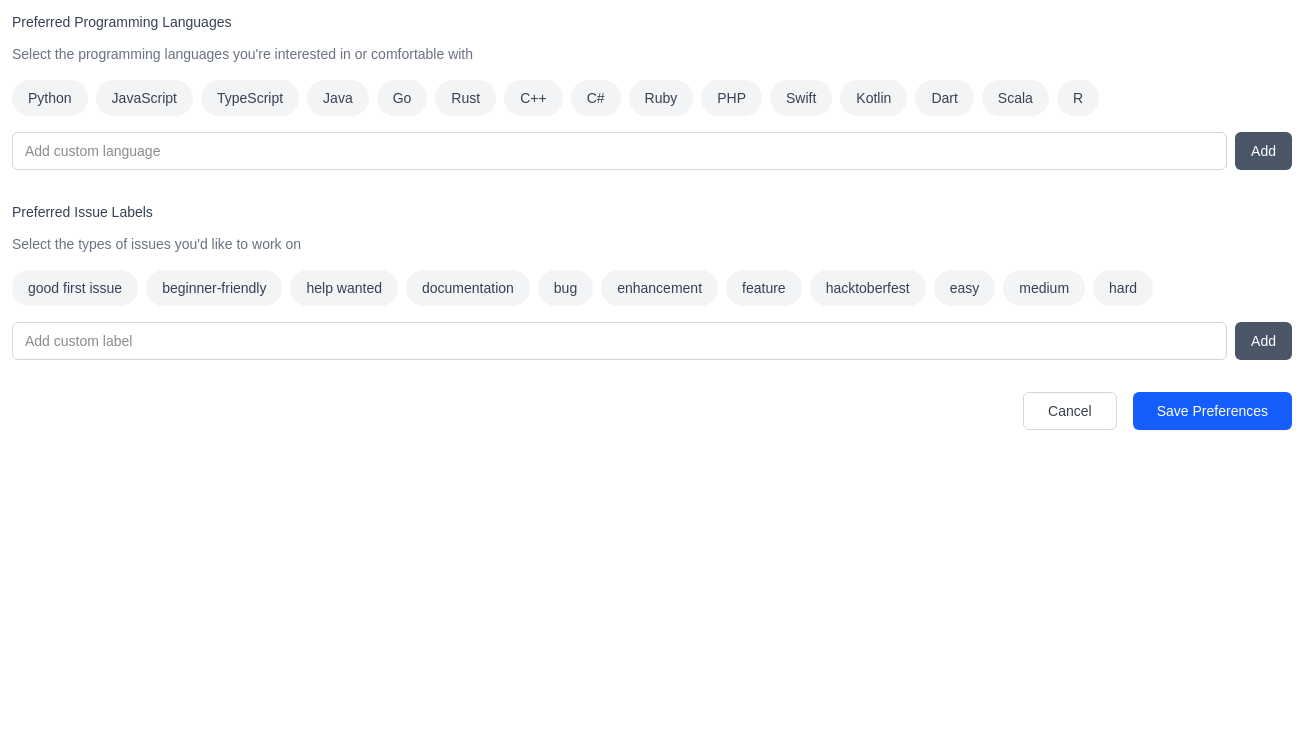
Scenario: PreferencesForm › toggles label selection
The width and height of the screenshot is (1304, 732).
Step 1. Click the button "bug" → click(566, 288), box x1=538 y1=270 x2=593 y2=306
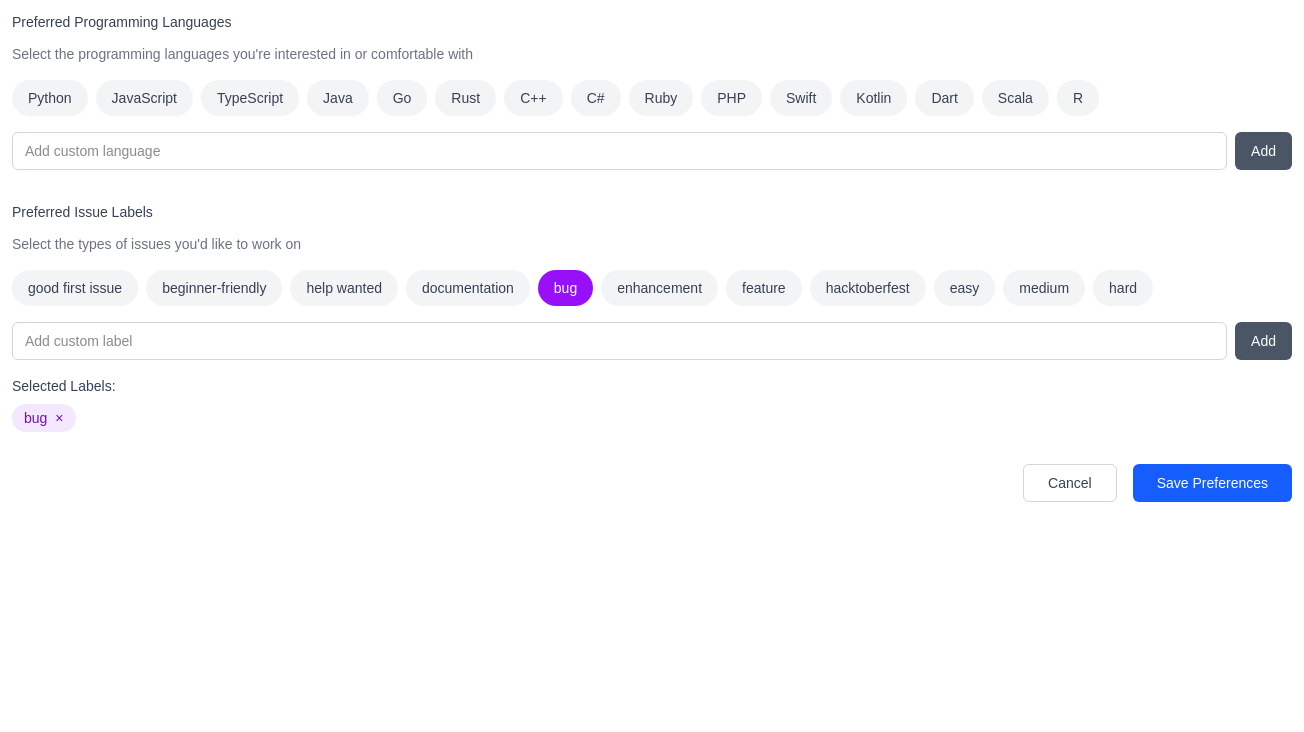
Now the text "Selected Labels:" is shown, box x1=12 y1=378 x2=116 y2=394
